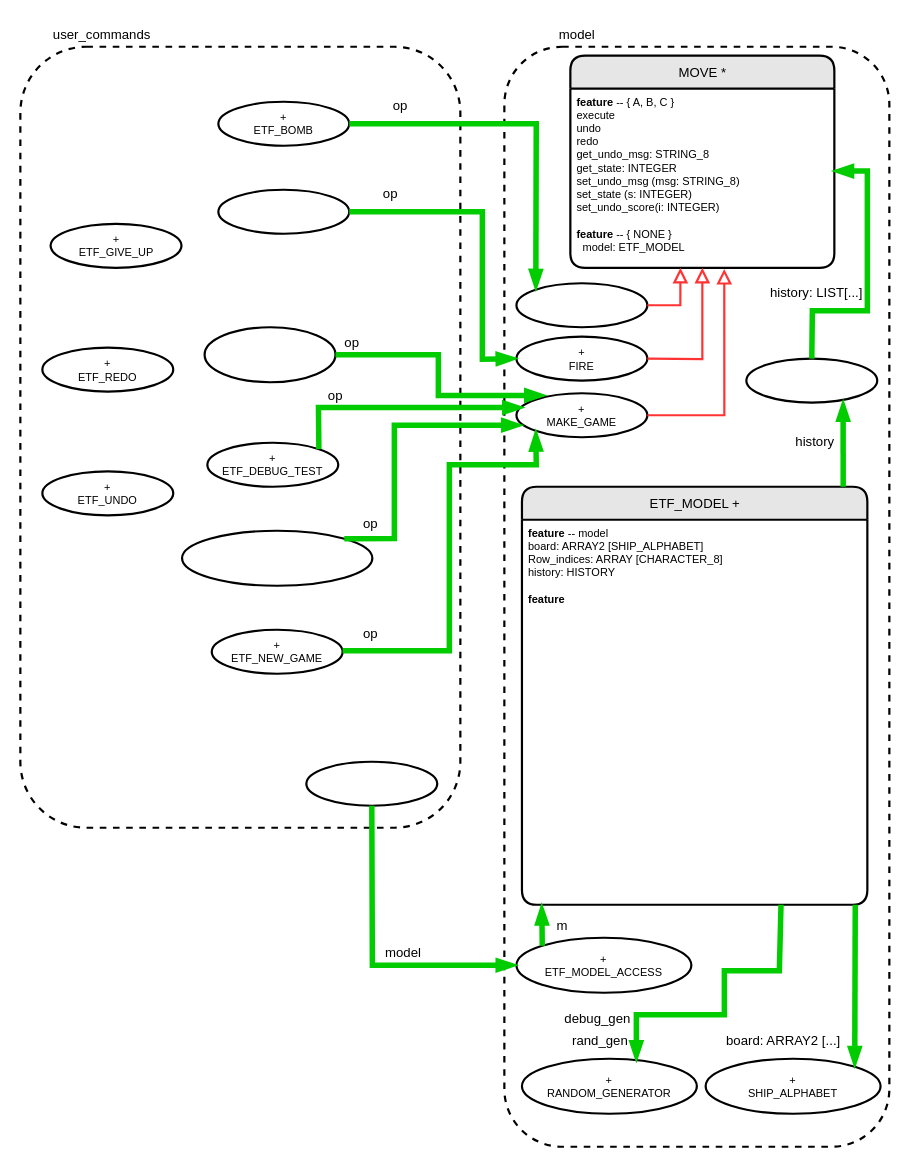
Some shapes in this 909 by 1166 pixel diagram are drawn without their labels. The shapes that lost their labels are listed below. From the top down, each one's centre as x and y in pixels, then its label:
At point (283, 211): "+ ETF_FIRE".
At point (581, 305): "+ BOMB".
At point (269, 354): "+ ETF_CUSTOM_SETUP".
At point (811, 380): "+ HISTORY".
At point (276, 557): "+ ETF_CUSTOM_SETUP_TEST".
At point (371, 783): "* ETF_COMMAND".
